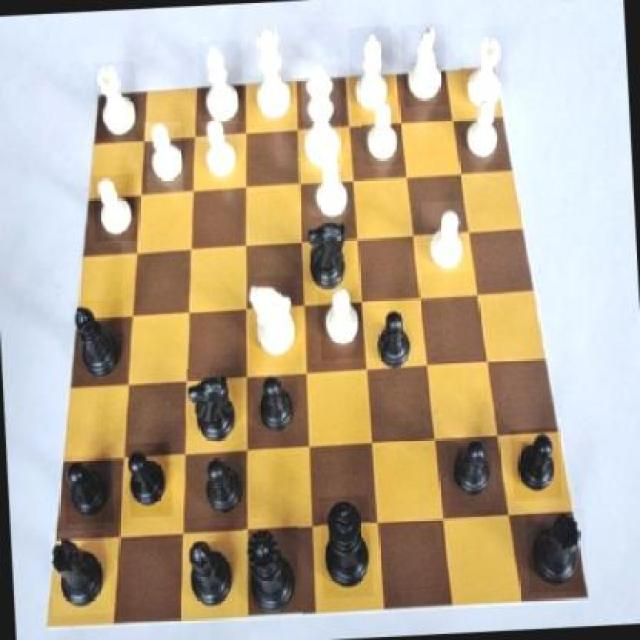bishop: (71, 298, 127, 392), (184, 537, 240, 620)
black-bishop: (318, 496, 374, 600)
black-king: (184, 366, 244, 442), (301, 216, 357, 294)
black-knight: (448, 436, 504, 516), (511, 428, 563, 500), (198, 454, 248, 528), (63, 454, 114, 524), (252, 372, 302, 443), (128, 443, 174, 520), (369, 308, 420, 374)
black-pawn: (244, 518, 304, 620)
black-queen: (49, 530, 112, 618), (526, 509, 589, 594)
black-rook: (348, 26, 394, 119), (198, 39, 246, 122)
white-bishop: (300, 58, 344, 174)
white-king: (246, 276, 300, 370), (402, 23, 449, 108)
white-knight: (422, 202, 472, 274), (317, 284, 363, 360), (304, 154, 350, 226), (462, 94, 508, 164), (361, 97, 404, 167), (94, 174, 138, 241), (144, 121, 183, 194), (200, 120, 241, 185)
white-pawn: (248, 23, 294, 124)
white-queen: (457, 28, 510, 112), (94, 62, 138, 139)
